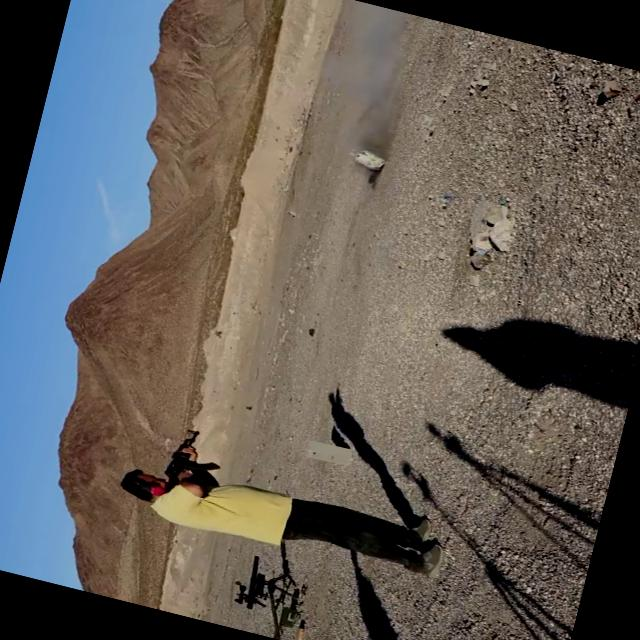long weapon: (153, 414, 235, 514), (213, 546, 299, 622)
